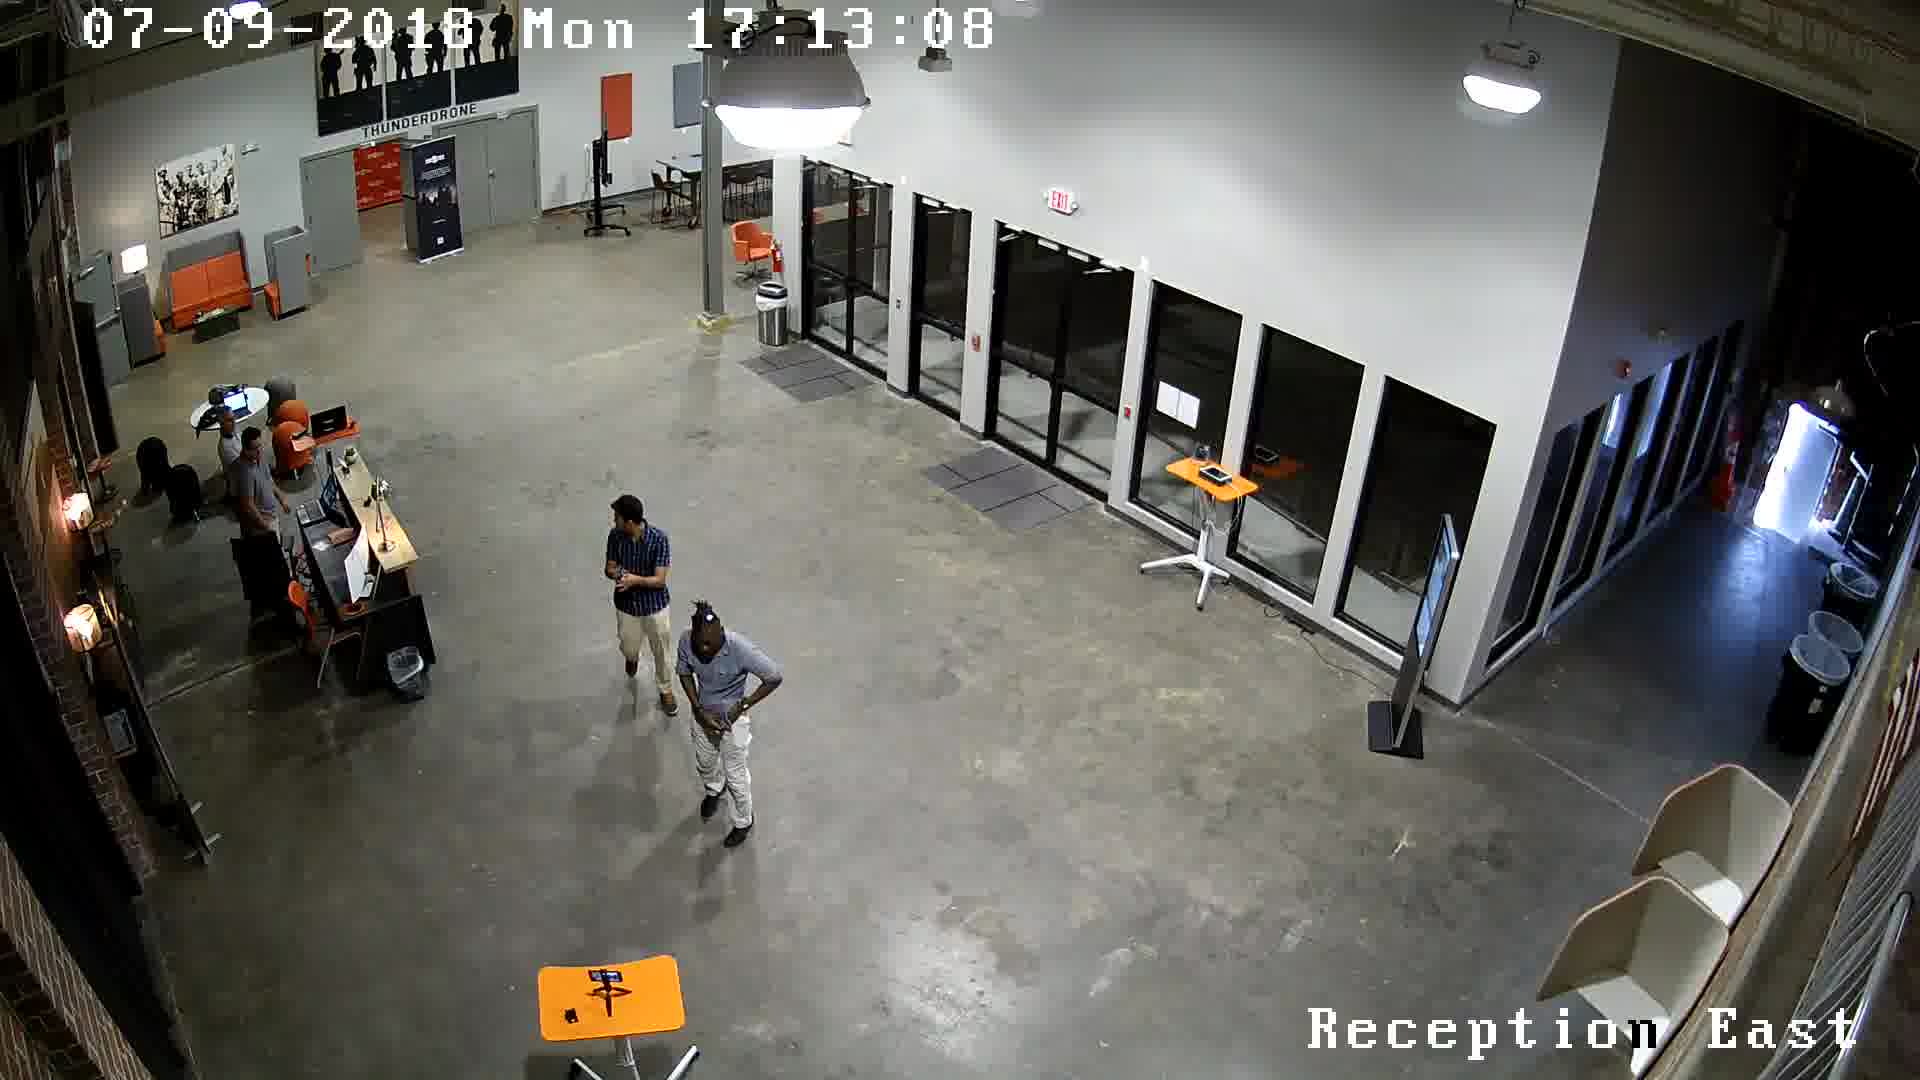pistol: (597, 564, 646, 612), (702, 712, 737, 753)
